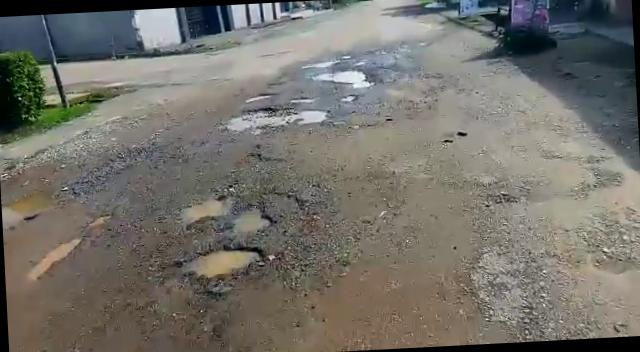pothole: (180, 191, 274, 238), (213, 103, 331, 134), (178, 243, 270, 280), (313, 66, 375, 86), (245, 92, 275, 102), (289, 98, 319, 105)
